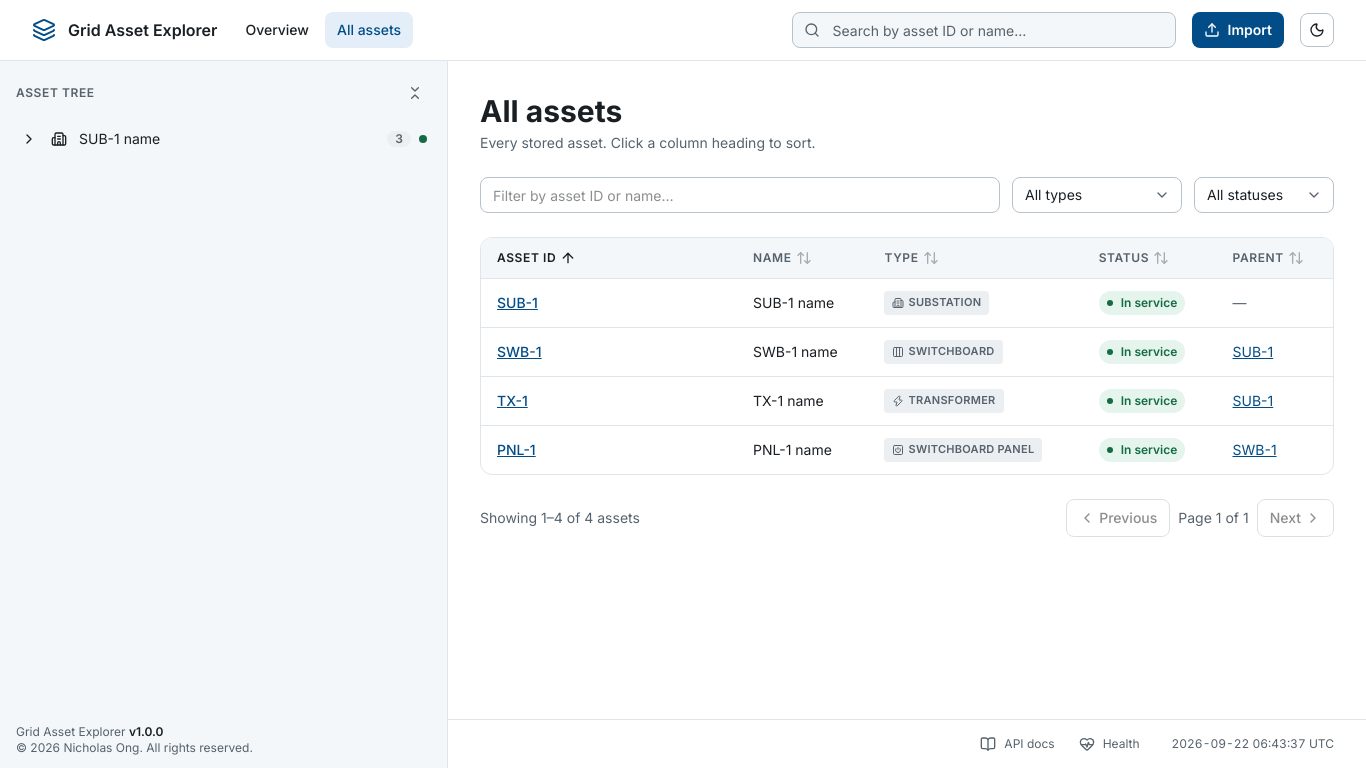
Test: AllAssetsPanel › filters by type and status through the API and keeps them in the URL
Check: the table is shown, box [481,238,1333,474]
Step 1. Select "Transformer" in the dropdown named "Filter by type" → x=1097, y=195, box [1012,177,1182,213]
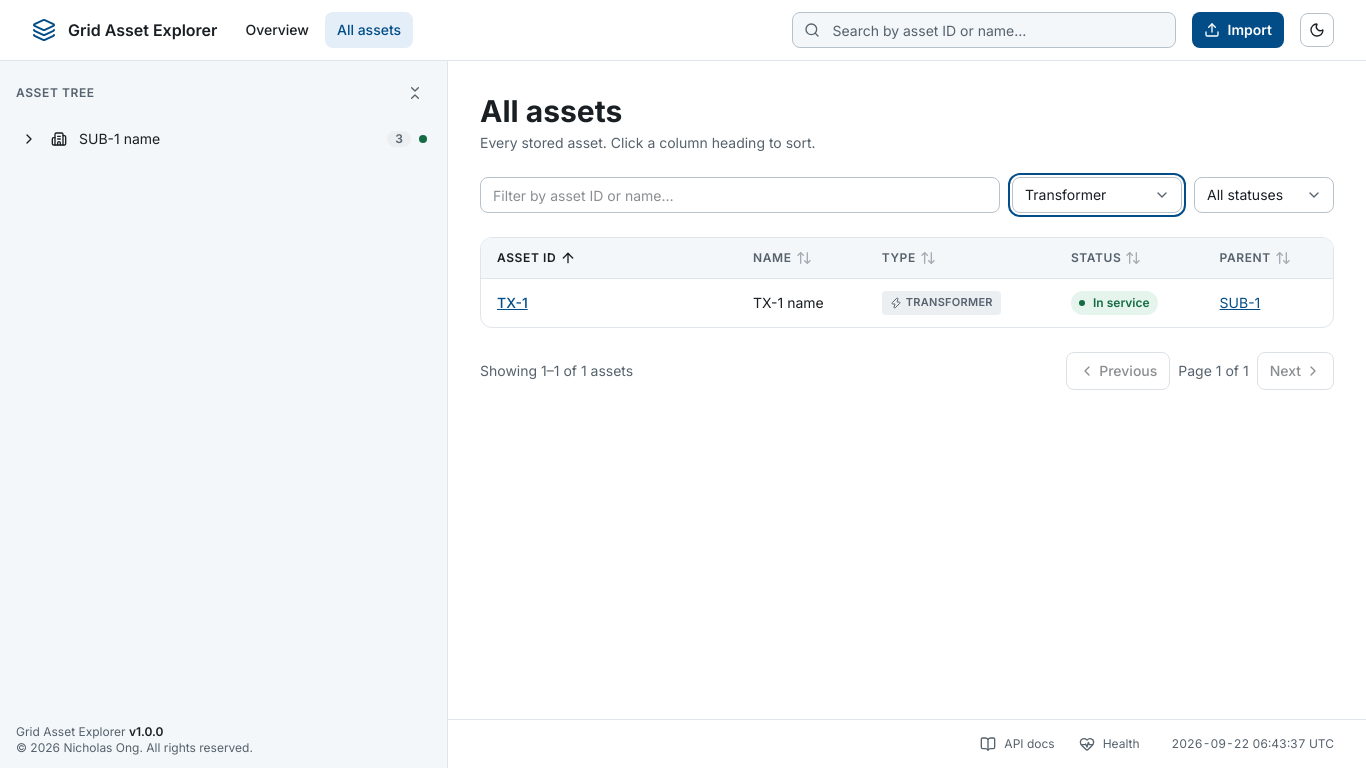
Check: the number of rows is 2, box [481,238,1333,278]; [481,278,1333,327]
Step 2. Select "Maintenance" in the dropdown named "Filter by status" → x=1264, y=195, box [1194,177,1334,213]
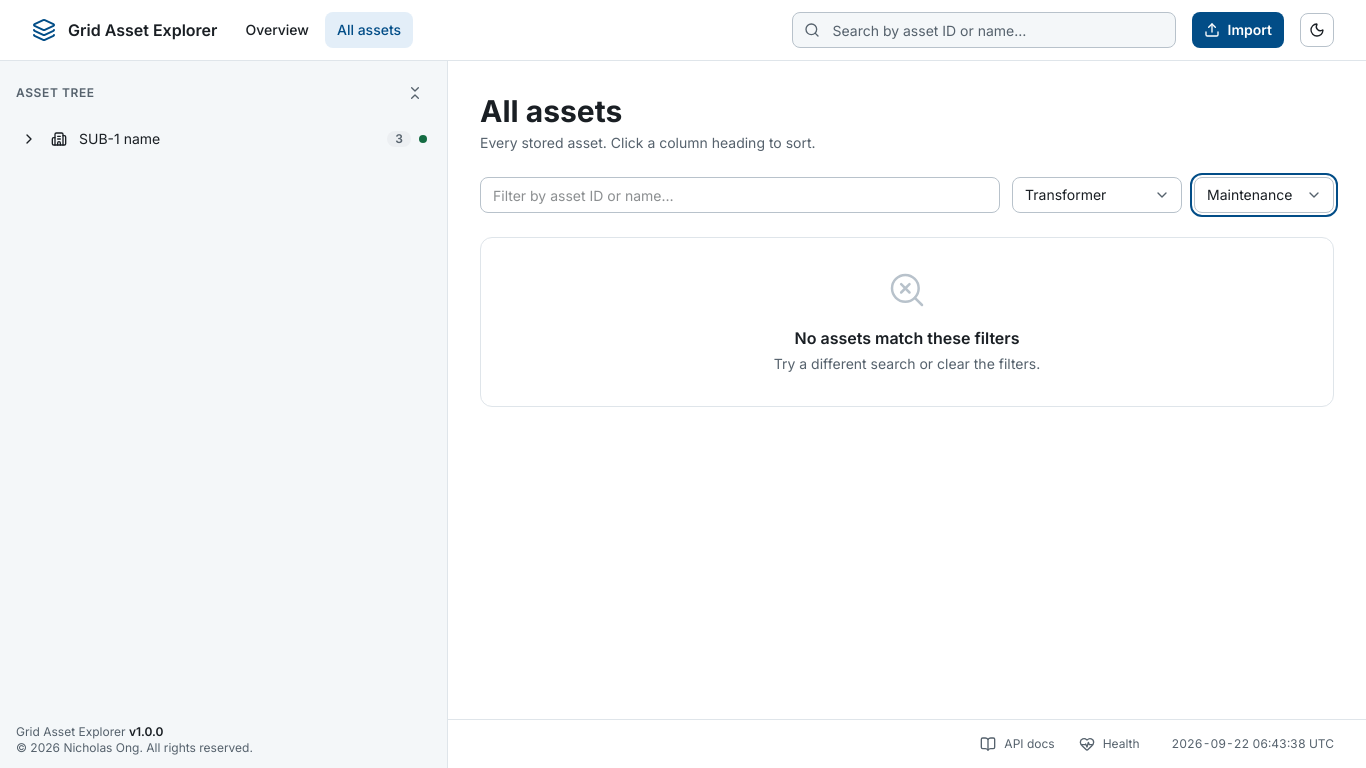
Check: the heading "No assets match these filters" is shown, box [794,326,1020,350]
